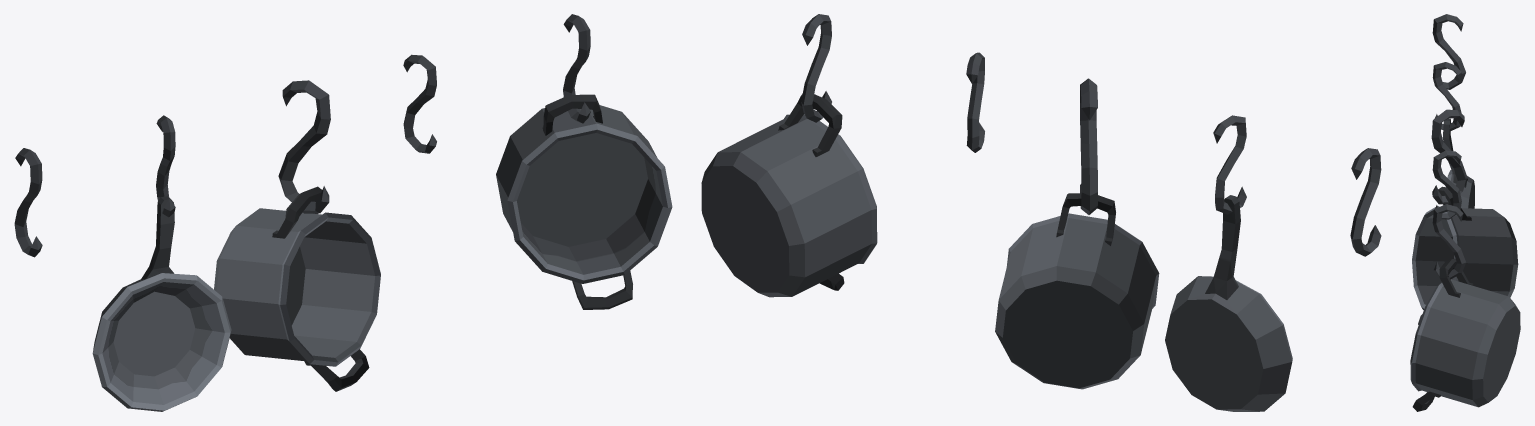
Rendered from SM_Prop_Pot_Rack_01_Insert_02.fbx.
3 renders of one model, left to right at view 1: azimuth 30°, elevation 25°; view 2: azimuth 150°, elevation 25°; view 3: azimuth 270°, elevation 25°, orthographic. The views are drawn at different scales.
Parts seen in each view (by area): view 1: SM_Prop_Pot_Rack_01_Insert_02; view 2: SM_Prop_Pot_Rack_01_Insert_02; view 3: SM_Prop_Pot_Rack_01_Insert_02.
Part boxes in pixels (<box>): SM_Prop_Pot_Rack_01_Insert_02: <box>14,14,672,411</box>; SM_Prop_Pot_Rack_01_Insert_02: <box>701,14,1381,411</box>; SM_Prop_Pot_Rack_01_Insert_02: <box>1410,14,1520,411</box>.
Size of the model in its own units: 198 by 88.26 by 40.91.
1 material, 1 textured.
